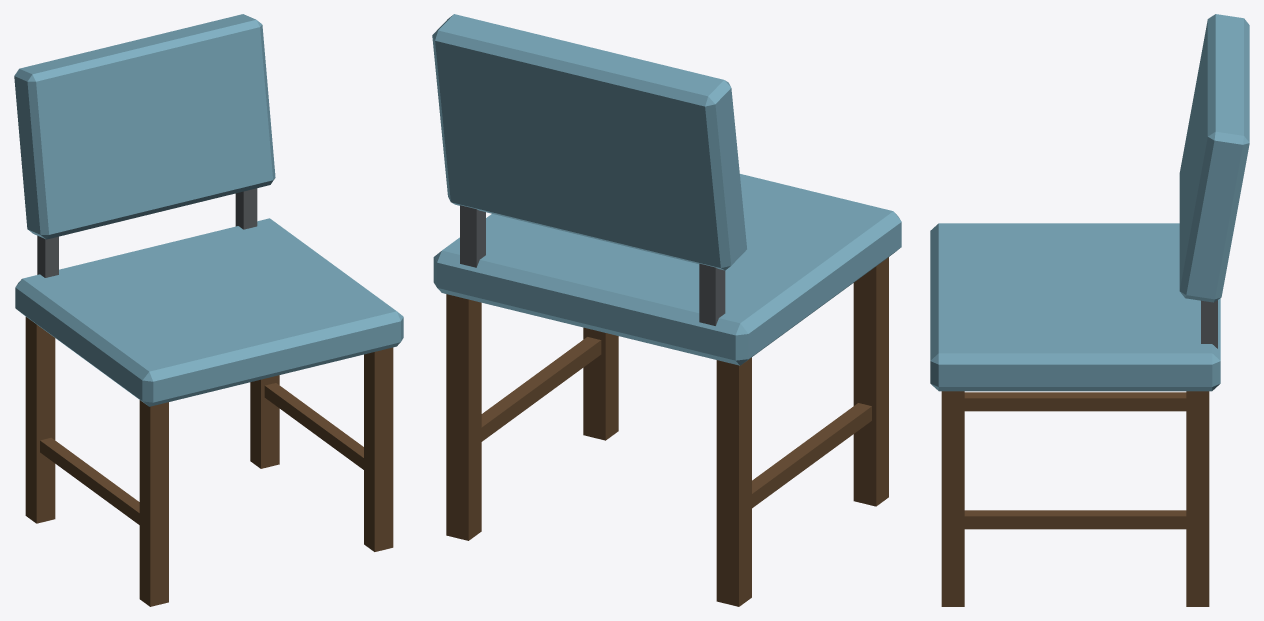
The model's file is office-chair-03.glb.
The picture shows the model from 3 angles, left to right: view 1: azimuth 30°, elevation 25°; view 2: azimuth 150°, elevation 25°; view 3: azimuth 270°, elevation 25°; orthographic projection. The views are drawn at different scales.
Parts seen in each view (by area): view 1: office_chair_03; view 2: office_chair_03; view 3: office_chair_03.
Part boxes in pixels (x1,y1,x2,y2): office_chair_03: (14,14,403,606); office_chair_03: (432,14,901,606); office_chair_03: (930,14,1249,606).
Bounding box in the file's own units: 0.5718 × 0.9141 × 0.5629.
